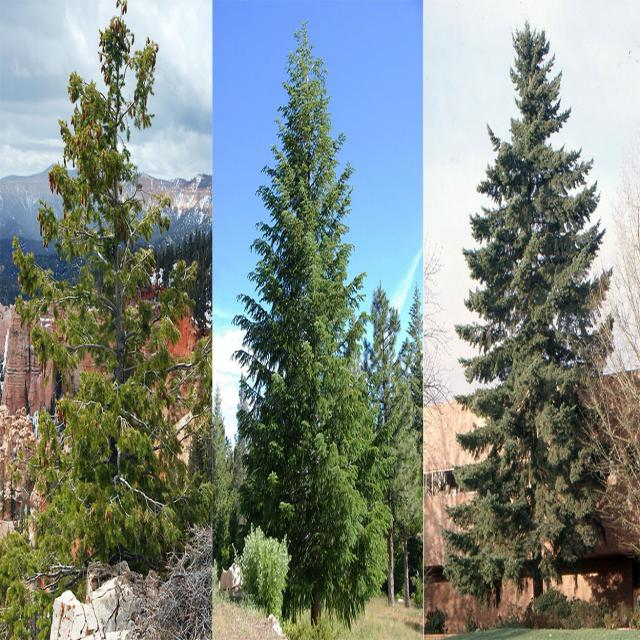Pseudotsuga menziesii: (10, 0, 201, 571), (441, 19, 618, 604), (231, 16, 383, 630)
